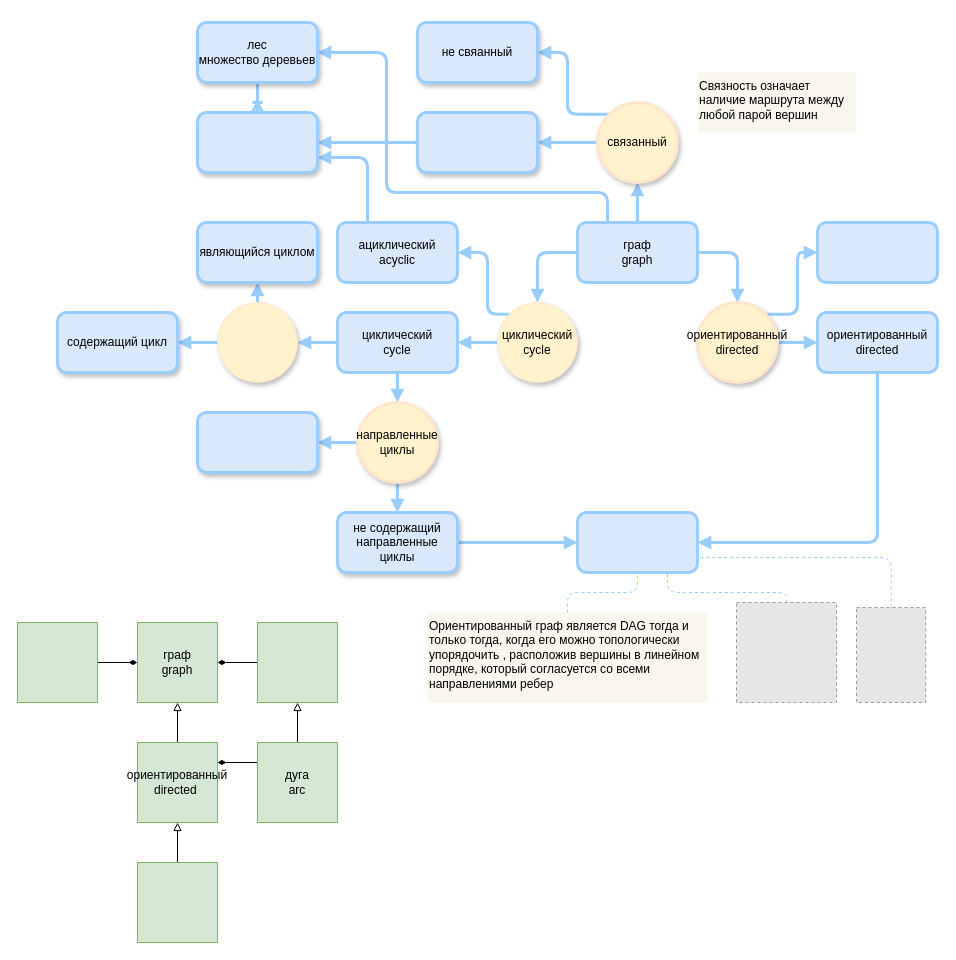
Some shapes in this 956 by 960 pixel diagram are drawn without their labels. Grey dashed boxes stand in for pictures. The shapes that lost their labels are listed below. From the top down, each one's centre as x and y in pixels, then its label:
the point at 258,143: дерево
the point at 478,143: свяанный
the point at 877,252: undirected
the point at 258,344: содержащий цикл, или, являющийся циклом
the point at 258,443: содержащий направленные циклы
the point at 637,542: ориентированный ациклический directed acyclic (DAG)
the point at 57,662: вершина vertex
the point at 297,662: ребро edge
the point at 177,902: DAG
